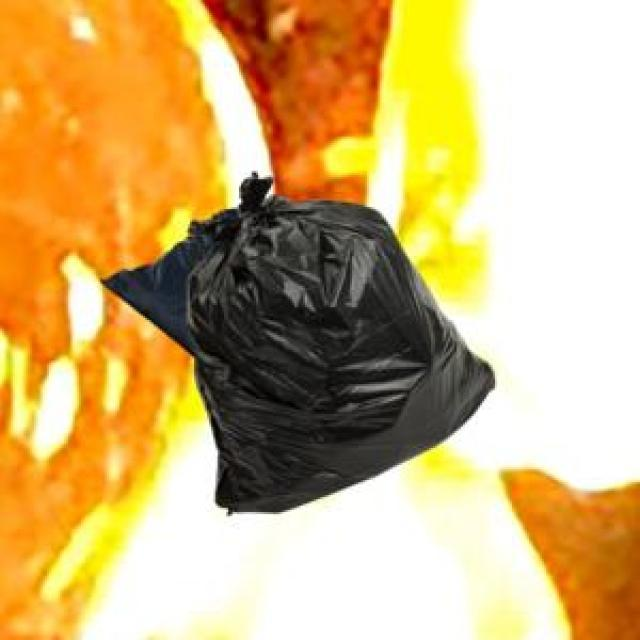Trashbag: (175, 173, 500, 528)
